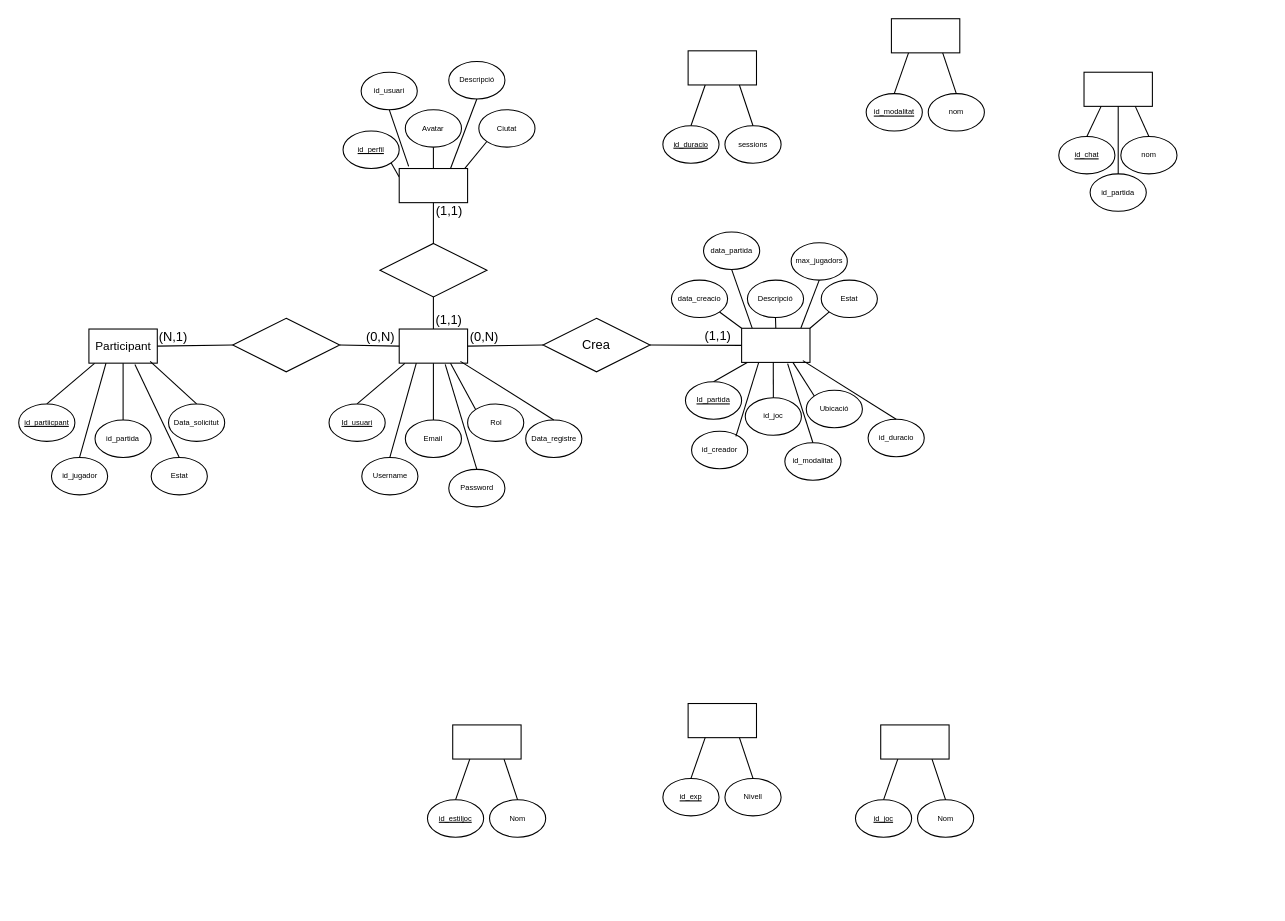
The diagram is 1285 pixels wide and 921 high, and some of its shapes have lost their labels. Each missing label, with the centre of its shape:
Chat: point 1117,88
Duració: point 721,67
EstilJoc: point 486,741
Experiencia: point 721,720
Joc: point 914,741
Modalitat: point 925,35
Participa: point 286,344
Partida: point 775,344
Perfil: point 433,185
Té: point 433,269
Usuari: point 433,345
